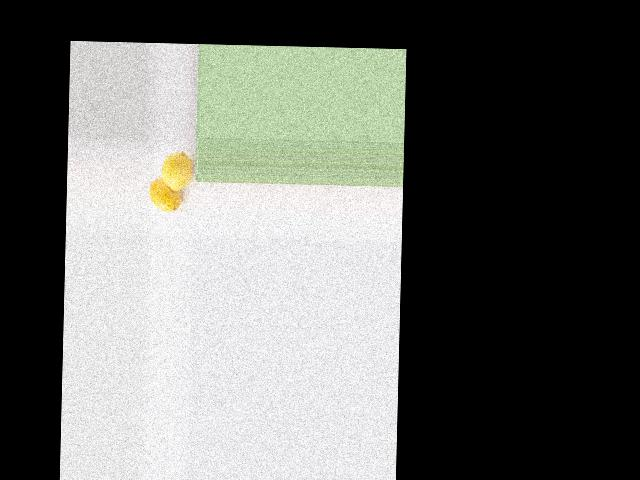lemon: (148, 179, 179, 213)
